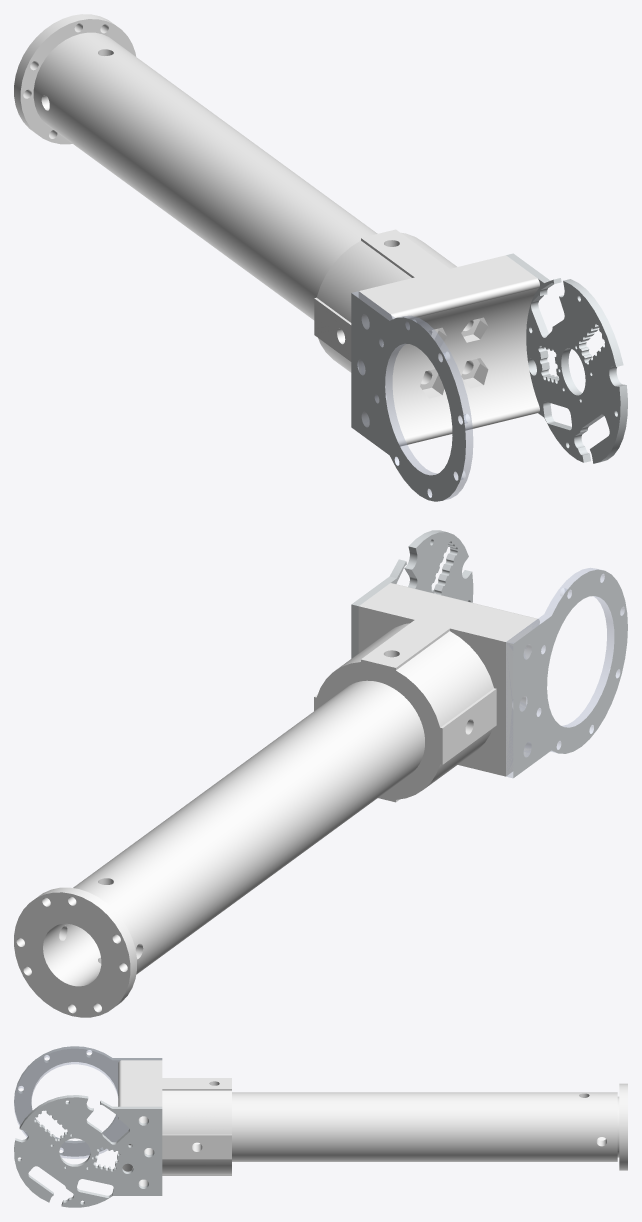
3 views of the same model, one above another, from view 1: azimuth 30°, elevation 25°; view 2: azimuth 150°, elevation 25°; view 3: azimuth 270°, elevation 25° (orthographic). The views are drawn at different scales.
Parts seen in each view (by area): view 1: A_Link_2_and_A_Joint5 (×6); view 2: A_Link_2_and_A_Joint5 (×6); view 3: A_Link_2_and_A_Joint5 (×6).
Part boxes in pixels (x1,y1,x2,y2): A_Link_2_and_A_Joint5 (×6): (14,14,627,501); A_Link_2_and_A_Joint5 (×6): (14,530,627,1017); A_Link_2_and_A_Joint5 (×6): (14,1046,627,1207).
Size of the model in its own units: 69.35 by 352 by 69.98.
